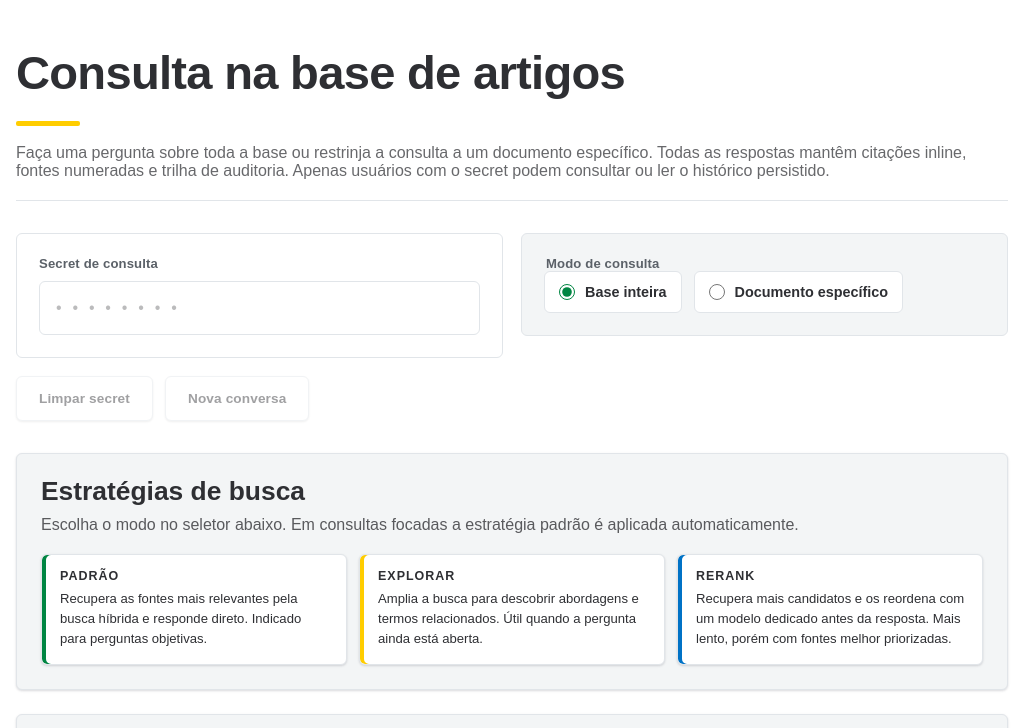
Scenario: /query page › shows the dedicated generation_unavailable message on 503
This screenshot has width=1024, height=728.
Type "query-secret-value" into the password field labelled "Secret de consulta" at (260, 308), box x1=39 y1=281 x2=480 y2=335
(page scrolled)
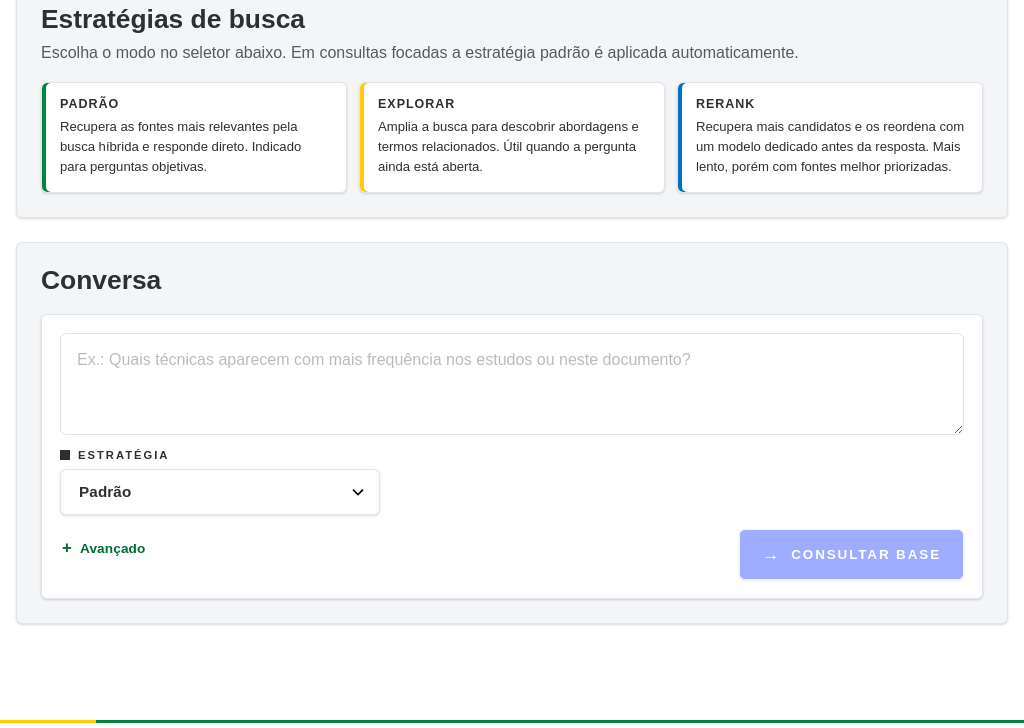
Replace the text in the text box named "pergunta" with "Pergunta indisp" at (512, 384), box x1=60 y1=333 x2=964 y2=435
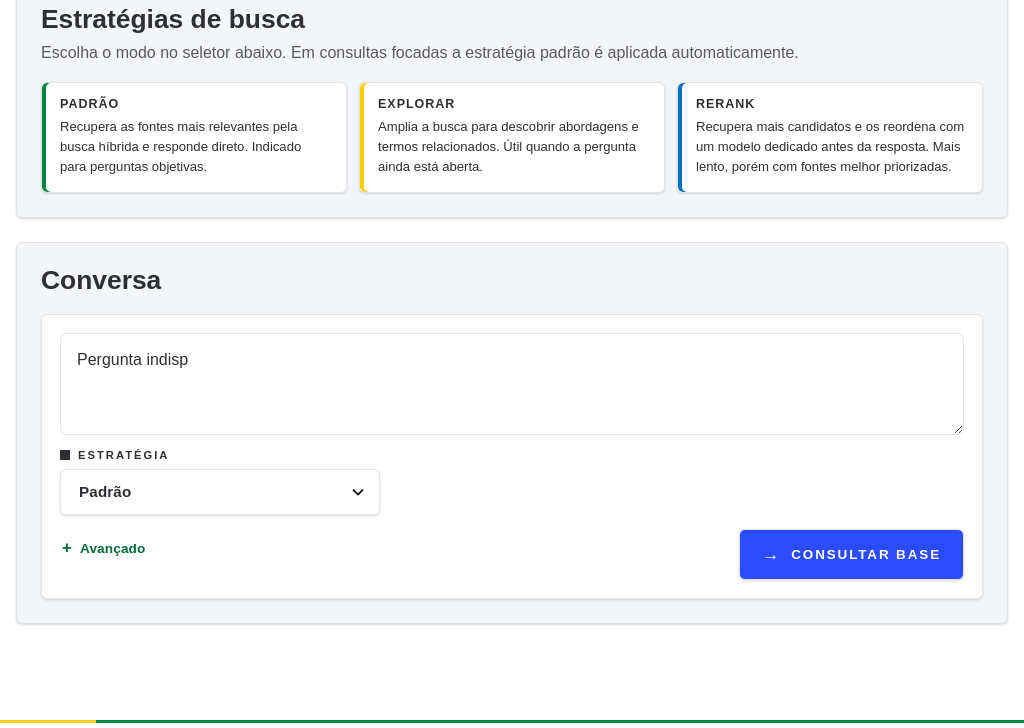
Click the button "Consultar base" at (851, 555), box x1=739 y1=529 x2=964 y2=580
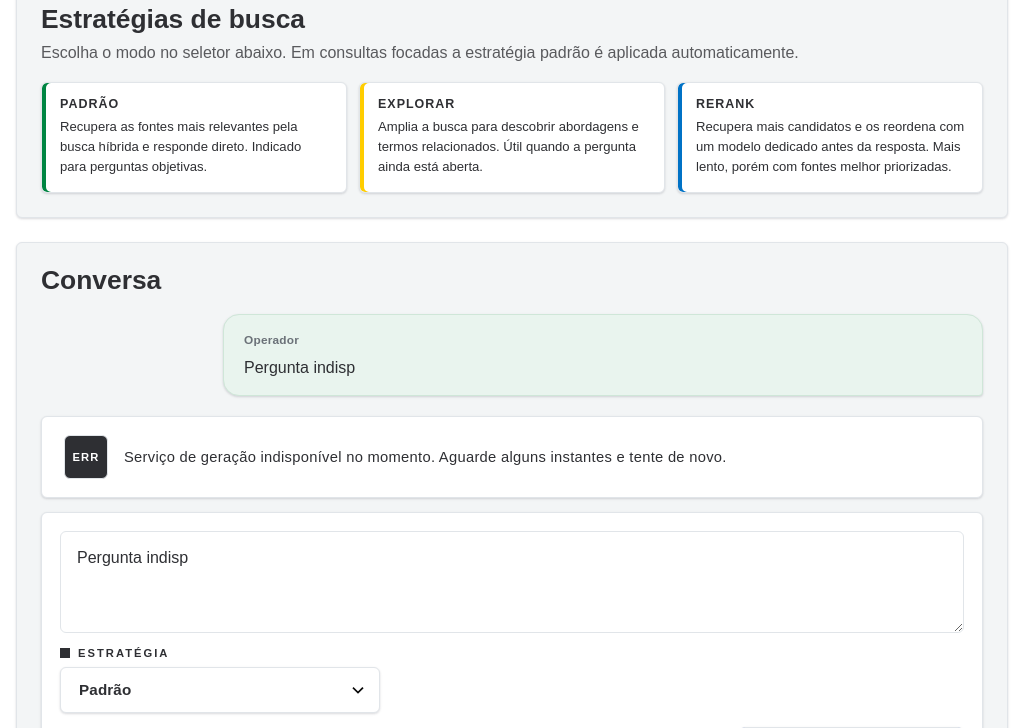
Now the text "Serviço de geração indisponível no momento" is shown, box x1=124 y1=449 x2=727 y2=465
